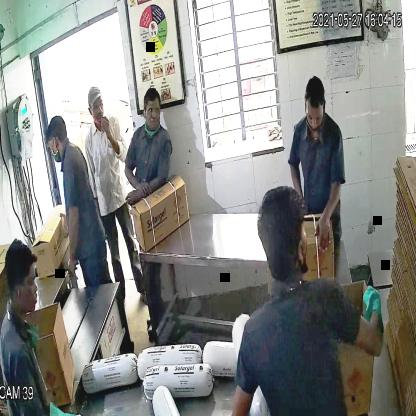no_goggles: (303, 106, 327, 132), (140, 101, 167, 122)
